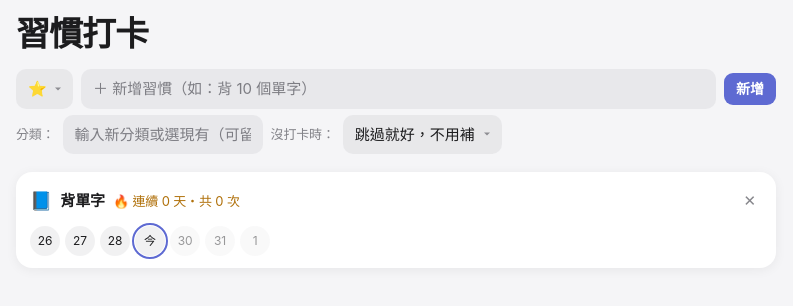
Test: 習慣頁打卡／補卡／取消的寫入／刷新邊界 › 寫入失敗時明確顯示錯誤、不刷新、不產生未處理的 rejection，之後可再試
The width and height of the screenshot is (793, 306).
Click the text "今". click: (150, 241)
box: [135,226,165,256]
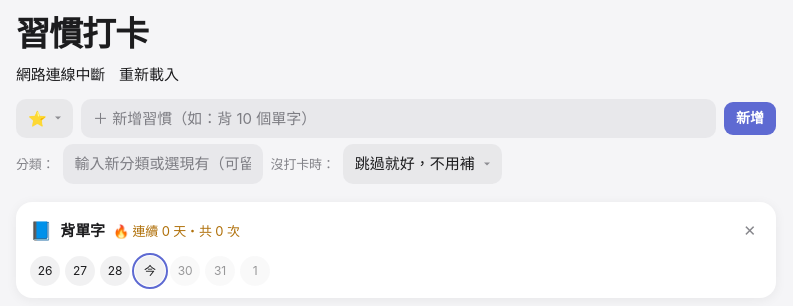
Check: the message shows "網路連線中斷", box [16,65,105,84]
Click the text "今". click: (150, 271)
box: [135,256,165,286]
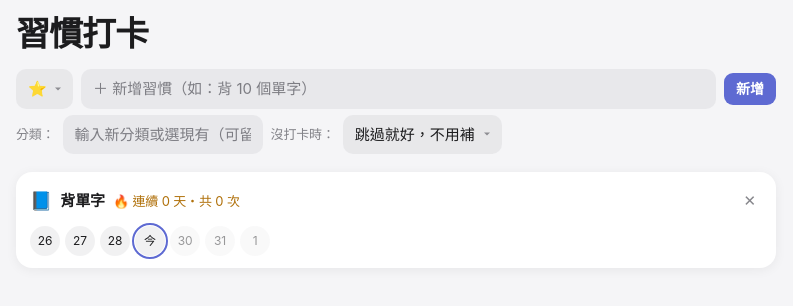
Check: the message "網路連線中斷 重新載入" is gone
